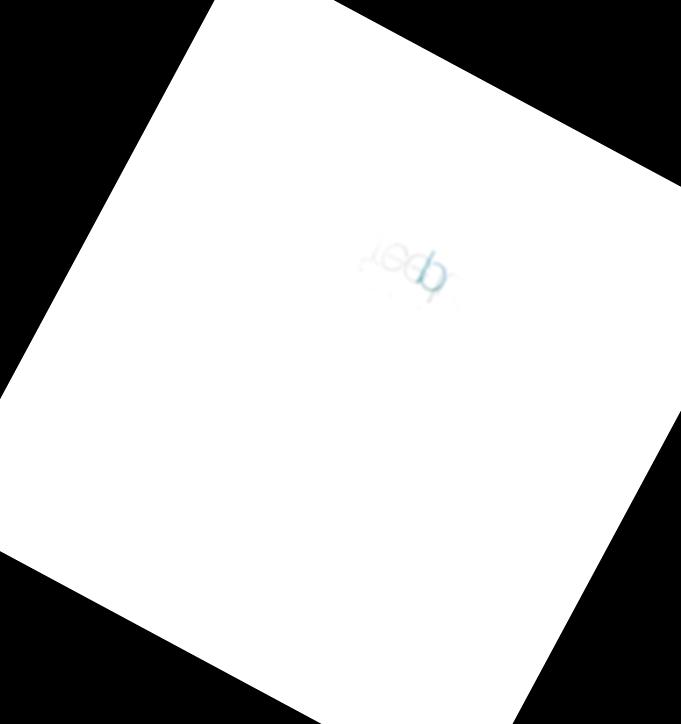cosmetic: (132, 89, 597, 689)
